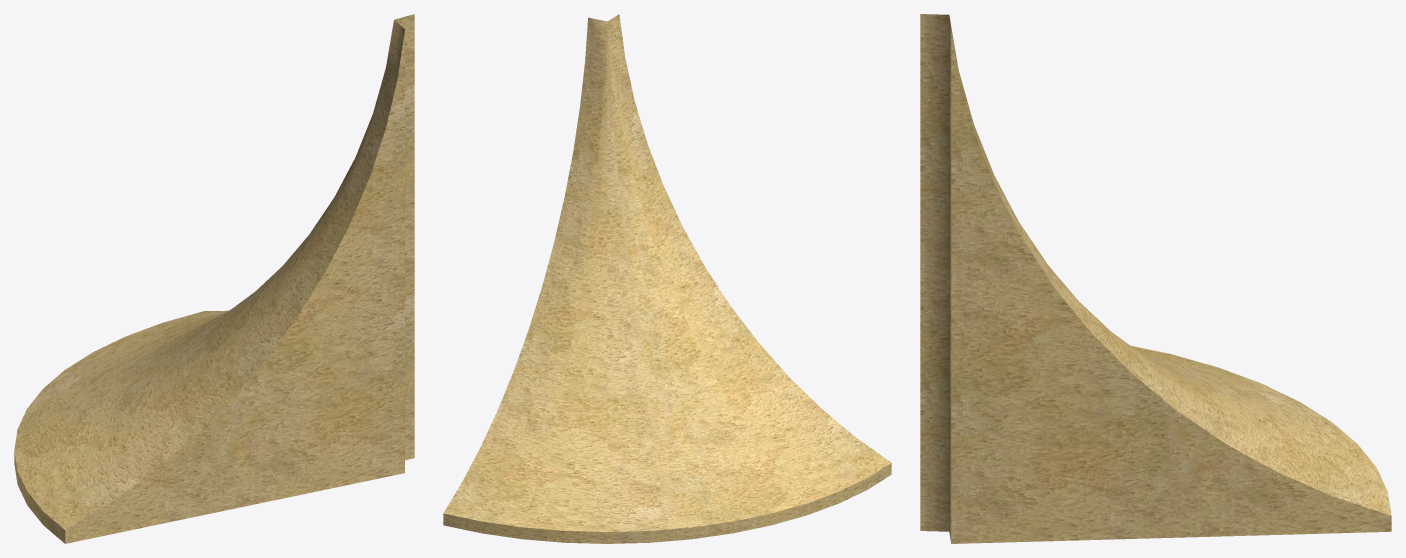
The model's file is LeftTurnIn.fbx.
The picture shows the model from 3 angles, left to right: view 1: azimuth 30°, elevation 25°; view 2: azimuth 150°, elevation 25°; view 3: azimuth 270°, elevation 25°; orthographic projection. The views are drawn at different scales.
Visible parts, largest first — view 1: Model; view 2: Model; view 3: Model.
Boxes of the visible parts, left/top/right/bottom form: Model: left=14, top=14, right=414, bottom=543; Model: left=443, top=14, right=891, bottom=543; Model: left=920, top=14, right=1391, bottom=543.
Bounding box in the file's own units: 1065 × 1290 × 1065.
